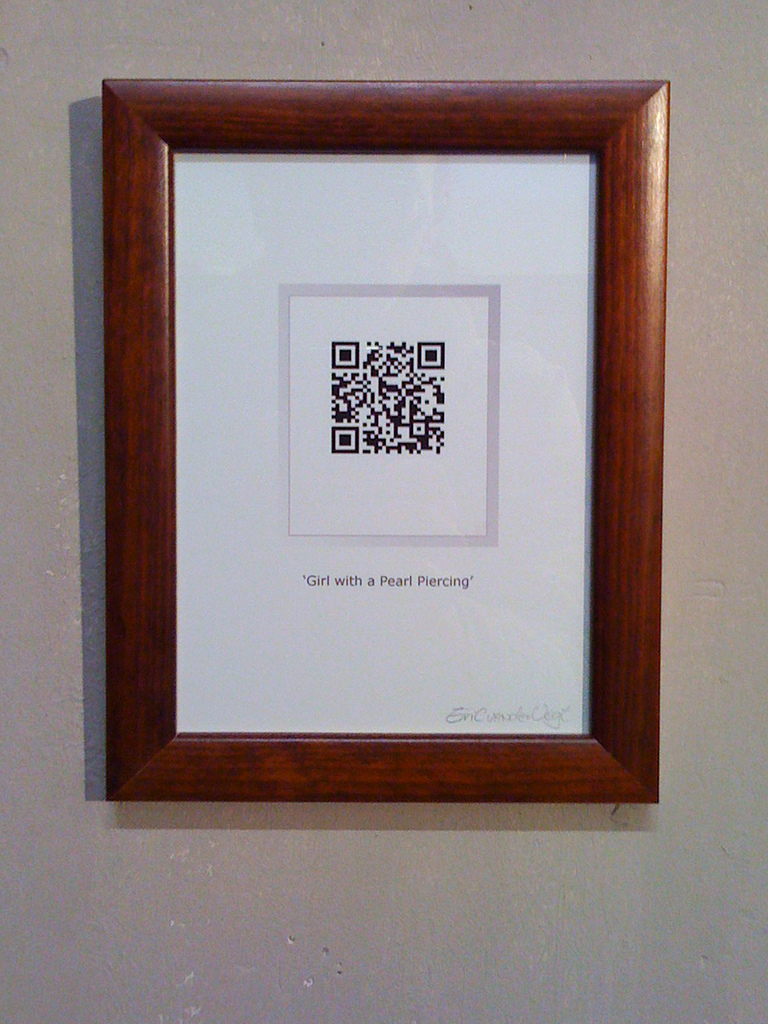QR-CODE: (331, 342, 444, 453)
